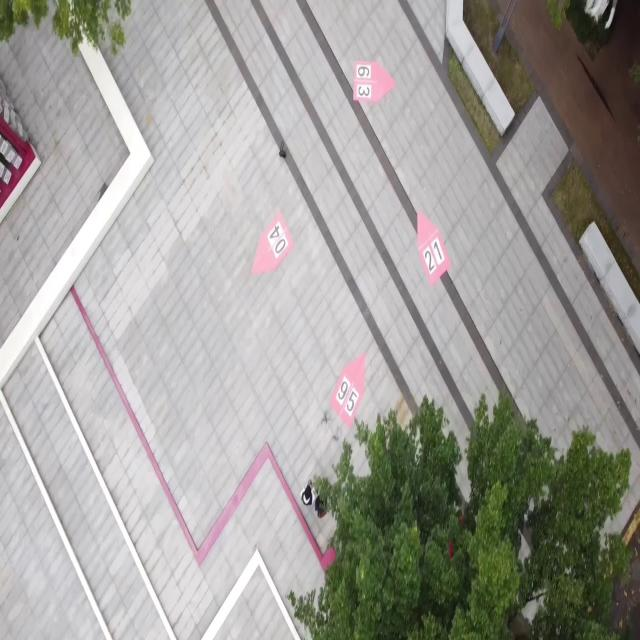-sign-: (331, 351, 367, 430), (252, 210, 295, 276), (418, 212, 452, 287), (353, 60, 396, 104)
